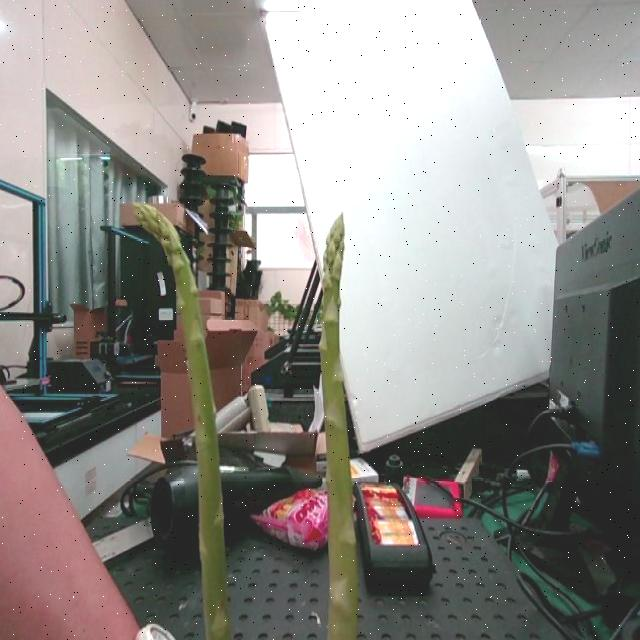aspargus: (134, 194, 232, 640), (320, 216, 361, 640)
